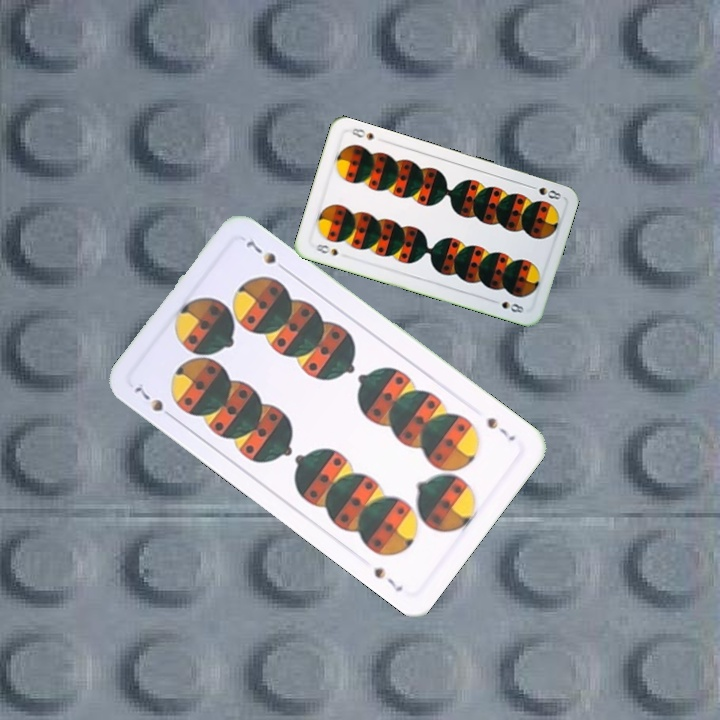S7: (127, 379, 178, 423), (483, 413, 518, 444)
S8: (524, 181, 563, 202), (311, 240, 340, 258)
